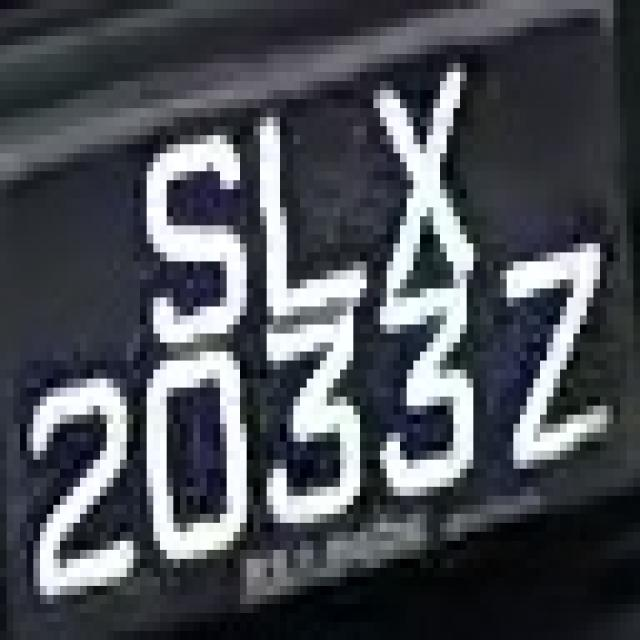0: (140, 342, 267, 577)
2: (0, 361, 147, 631)
3: (273, 306, 387, 541), (367, 261, 480, 496)
L: (233, 72, 380, 325)
S: (134, 117, 274, 343)
X: (340, 27, 493, 270)
Z: (473, 216, 627, 514)
